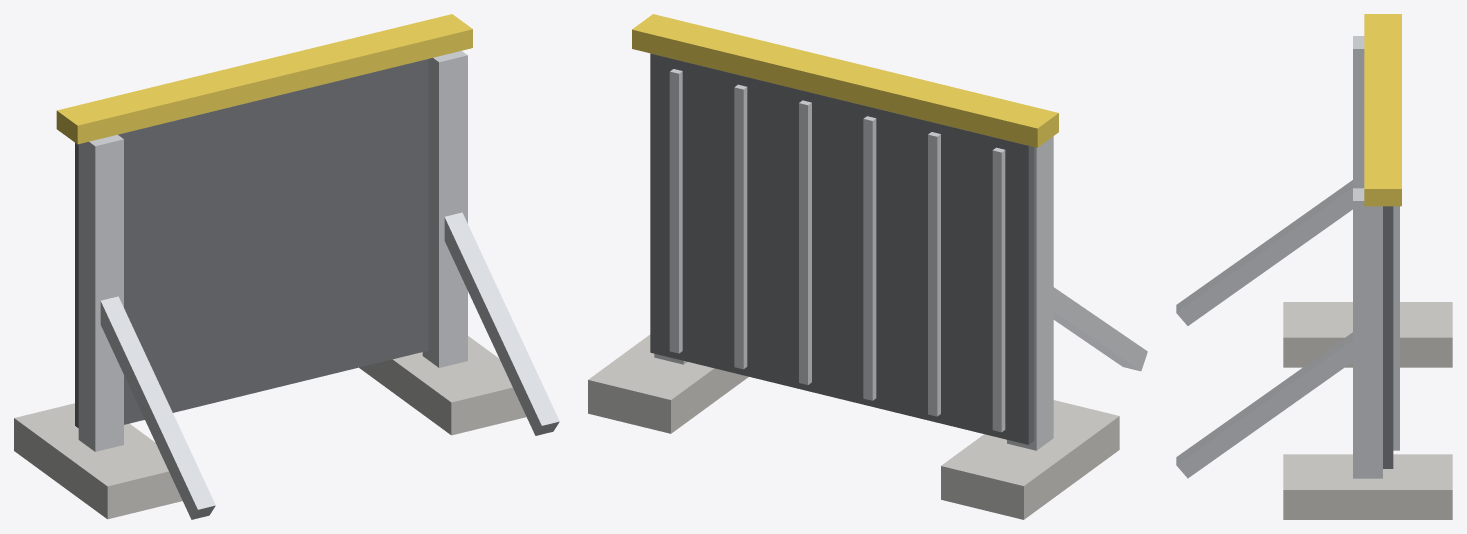
File: blastpanel.glb
The picture shows the model from 3 angles, left to right: view 1: azimuth 30°, elevation 25°; view 2: azimuth 150°, elevation 25°; view 3: azimuth 270°, elevation 25°; orthographic projection. The views are drawn at different scales.
Visible parts, largest first — view 1: blast-fence-panel; view 2: blast-fence-panel; view 3: blast-fence-panel.
Boxes of the visible parts, <box> form: blast-fence-panel: <box>14,14,559,519</box>; blast-fence-panel: <box>588,14,1147,519</box>; blast-fence-panel: <box>1176,14,1452,519</box>.
Size of the model in its own units: 4.73 by 3.8 by 2.94.
